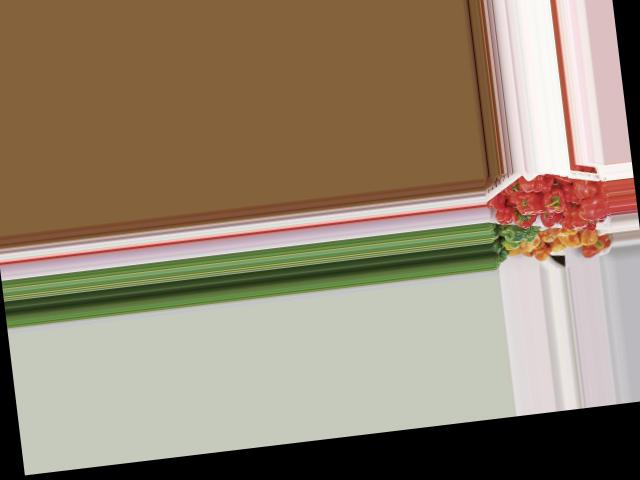bell_pepper: (517, 170, 555, 194)
